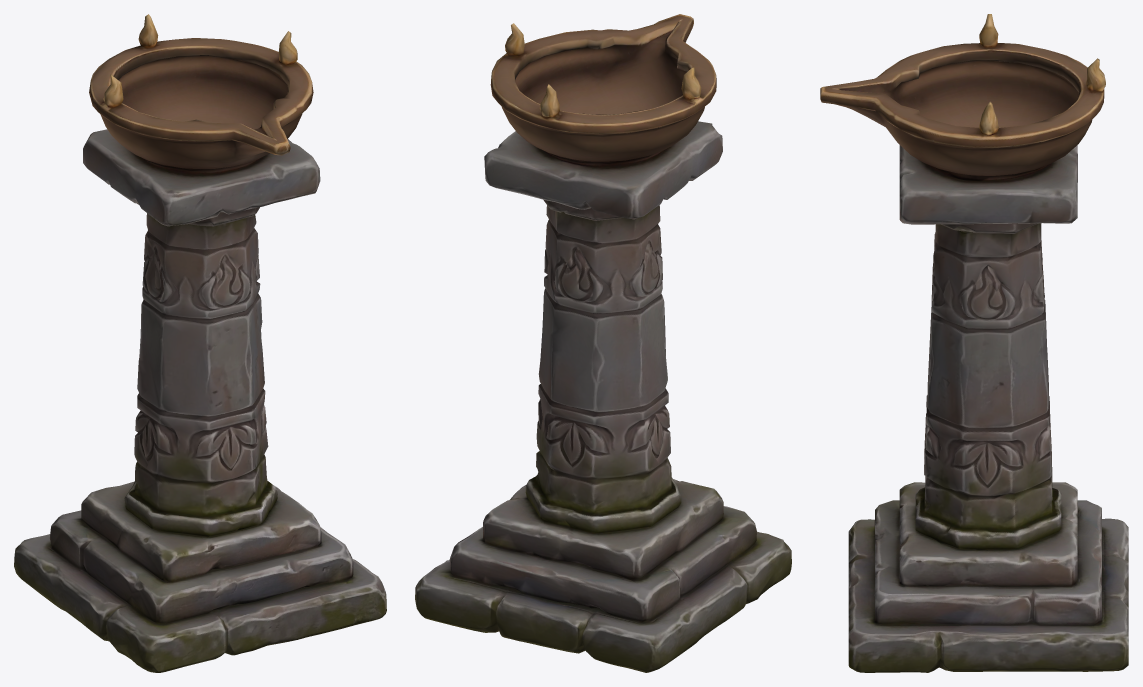
Rendered from oil-lamp.glb.
3 renders of one model, left to right at view 1: azimuth 30°, elevation 25°; view 2: azimuth 150°, elevation 25°; view 3: azimuth 270°, elevation 25°, orthographic. The views are drawn at different scales.
Visible parts, largest first — view 1: oil_lamp; view 2: oil_lamp; view 3: oil_lamp.
Part boxes in pixels (<box>): oil_lamp: <box>14,14,386,672</box>; oil_lamp: <box>415,14,791,672</box>; oil_lamp: <box>820,14,1128,672</box>.
Size of the model in its own units: 1.02 by 2.2 by 1.1.
Materials: 1 (1 with a texture image).
